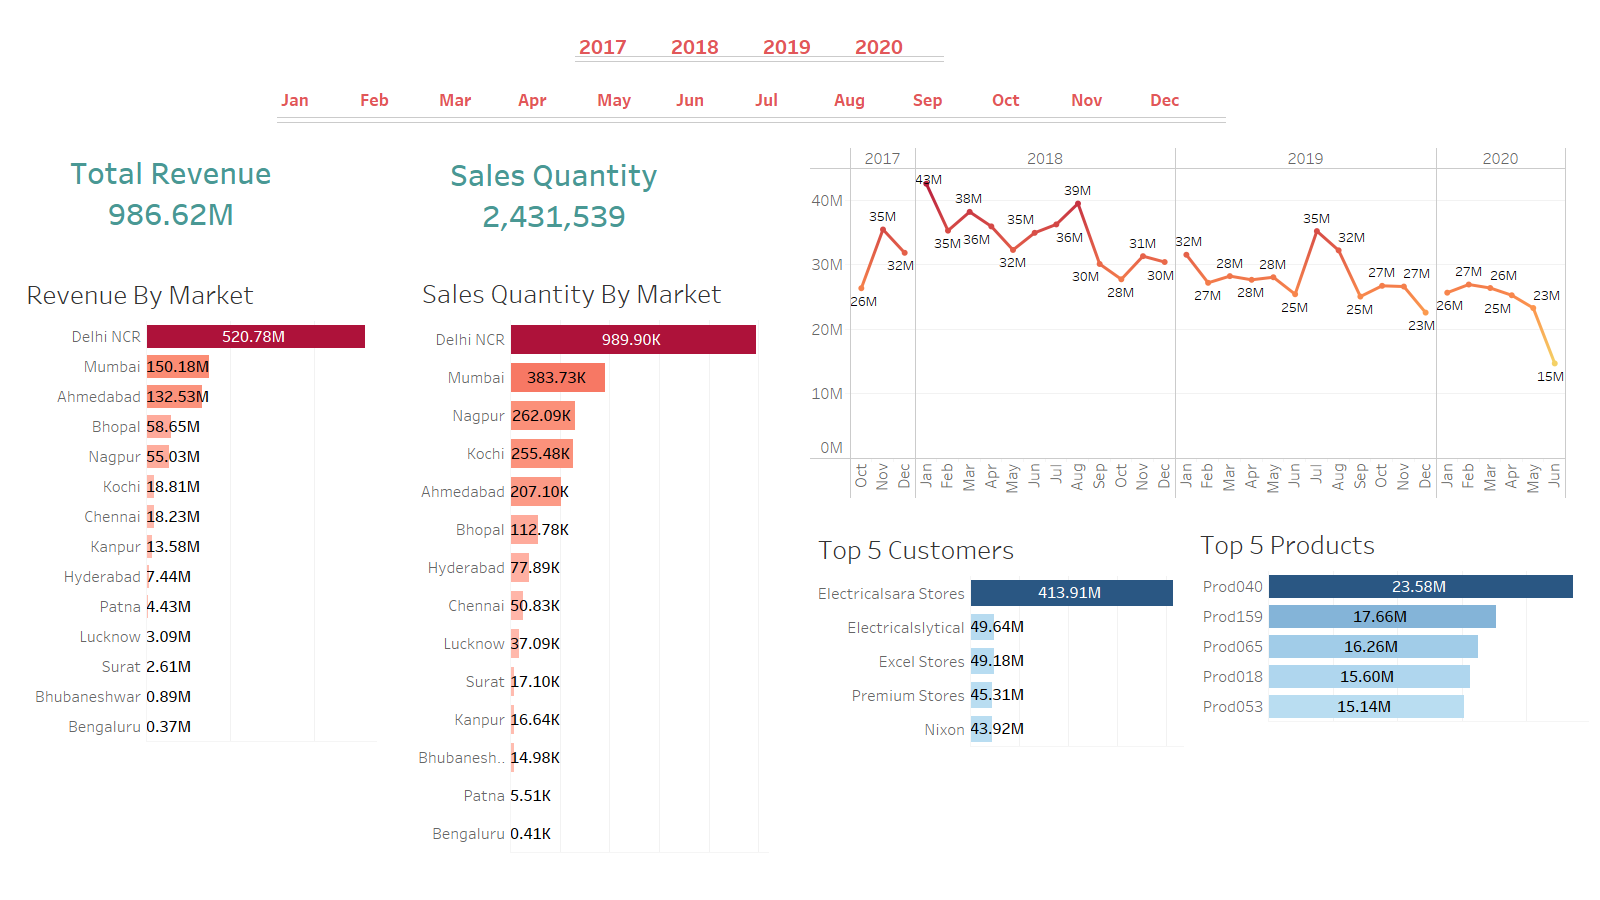

The dashboard page shown, as its layout file describes it:
{"tool":"tableau","page":{"name":"Revenue Dashboard","canvas":[1600,900],"ordinal":1},"visuals":[{"type":"worksheet","title":"Year","mark":"Automatic","cols":["cy_date"],"box":[574.9,36,403.2,84]},{"type":"worksheet","title":"Month","mark":"Automatic","cols":["cy_date"],"box":[277.3,81,1018.7,71]},{"type":"worksheet","title":"Revenue By Year","mark":"Automatic","rows":["Calculation_1418070963399802880"],"cols":["cy_date","cy_date"],"box":[810,148,757,351]},{"type":"worksheet","title":"Revenue","mark":"Automatic","box":[33.1,152,445.9,90]},{"type":"worksheet","title":"Quantity","mark":"Automatic","box":[444,154,293,100]},{"type":"worksheet","title":"Revenue By Market","mark":"Automatic","rows":["markets_name"],"cols":["Calculation_1418070963399802880"],"box":[22,260,354,592]},{"type":"worksheet","title":"Sales Quantity By Market","mark":"Automatic","rows":["markets_name"],"cols":["sales_qty"],"box":[403,262,377,590]},{"type":"worksheet","title":"Top 5 Products","mark":"Automatic","rows":["product_code (products.csv)"],"cols":["Calculation_1418070963399802880"],"box":[1196,521,392,273]},{"type":"worksheet","title":"Top 5 Customers","mark":"Automatic","rows":["custmer_name"],"cols":["Calculation_1418070963399802880"],"box":[814,526,369,267]}]}

Visuals, with their boxes in screenshot pixels (x1, y1, x2, y2), scaled from the page's 1600x900 canvas onto the 1600x900 screenshot:
"Year" worksheet: bbox=(575, 36, 978, 120)
"Month" worksheet: bbox=(277, 81, 1296, 152)
"Revenue By Year" worksheet: bbox=(810, 148, 1567, 499)
"Revenue" worksheet: bbox=(33, 152, 479, 242)
"Quantity" worksheet: bbox=(444, 154, 737, 254)
"Revenue By Market" worksheet: bbox=(22, 260, 376, 852)
"Sales Quantity By Market" worksheet: bbox=(403, 262, 780, 852)
"Top 5 Products" worksheet: bbox=(1196, 521, 1588, 794)
"Top 5 Customers" worksheet: bbox=(814, 526, 1183, 793)
